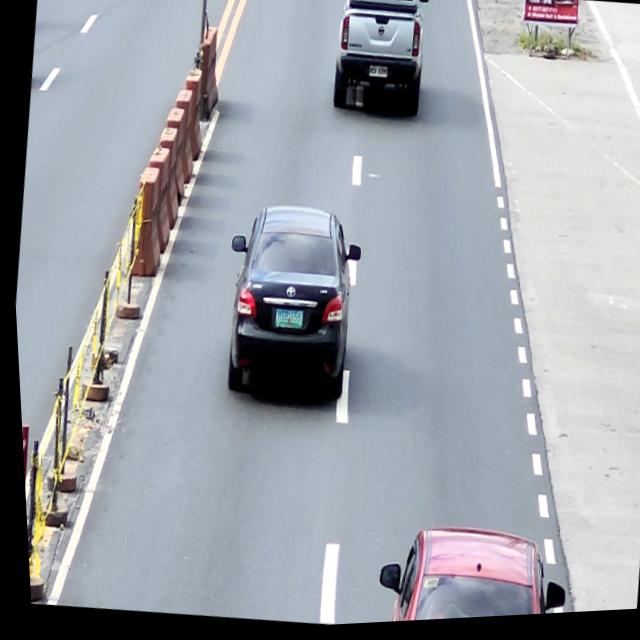Car: (208, 197, 368, 409), (363, 517, 566, 626), (322, 0, 434, 124)
License-Plate: (268, 306, 302, 334), (365, 65, 388, 83)
